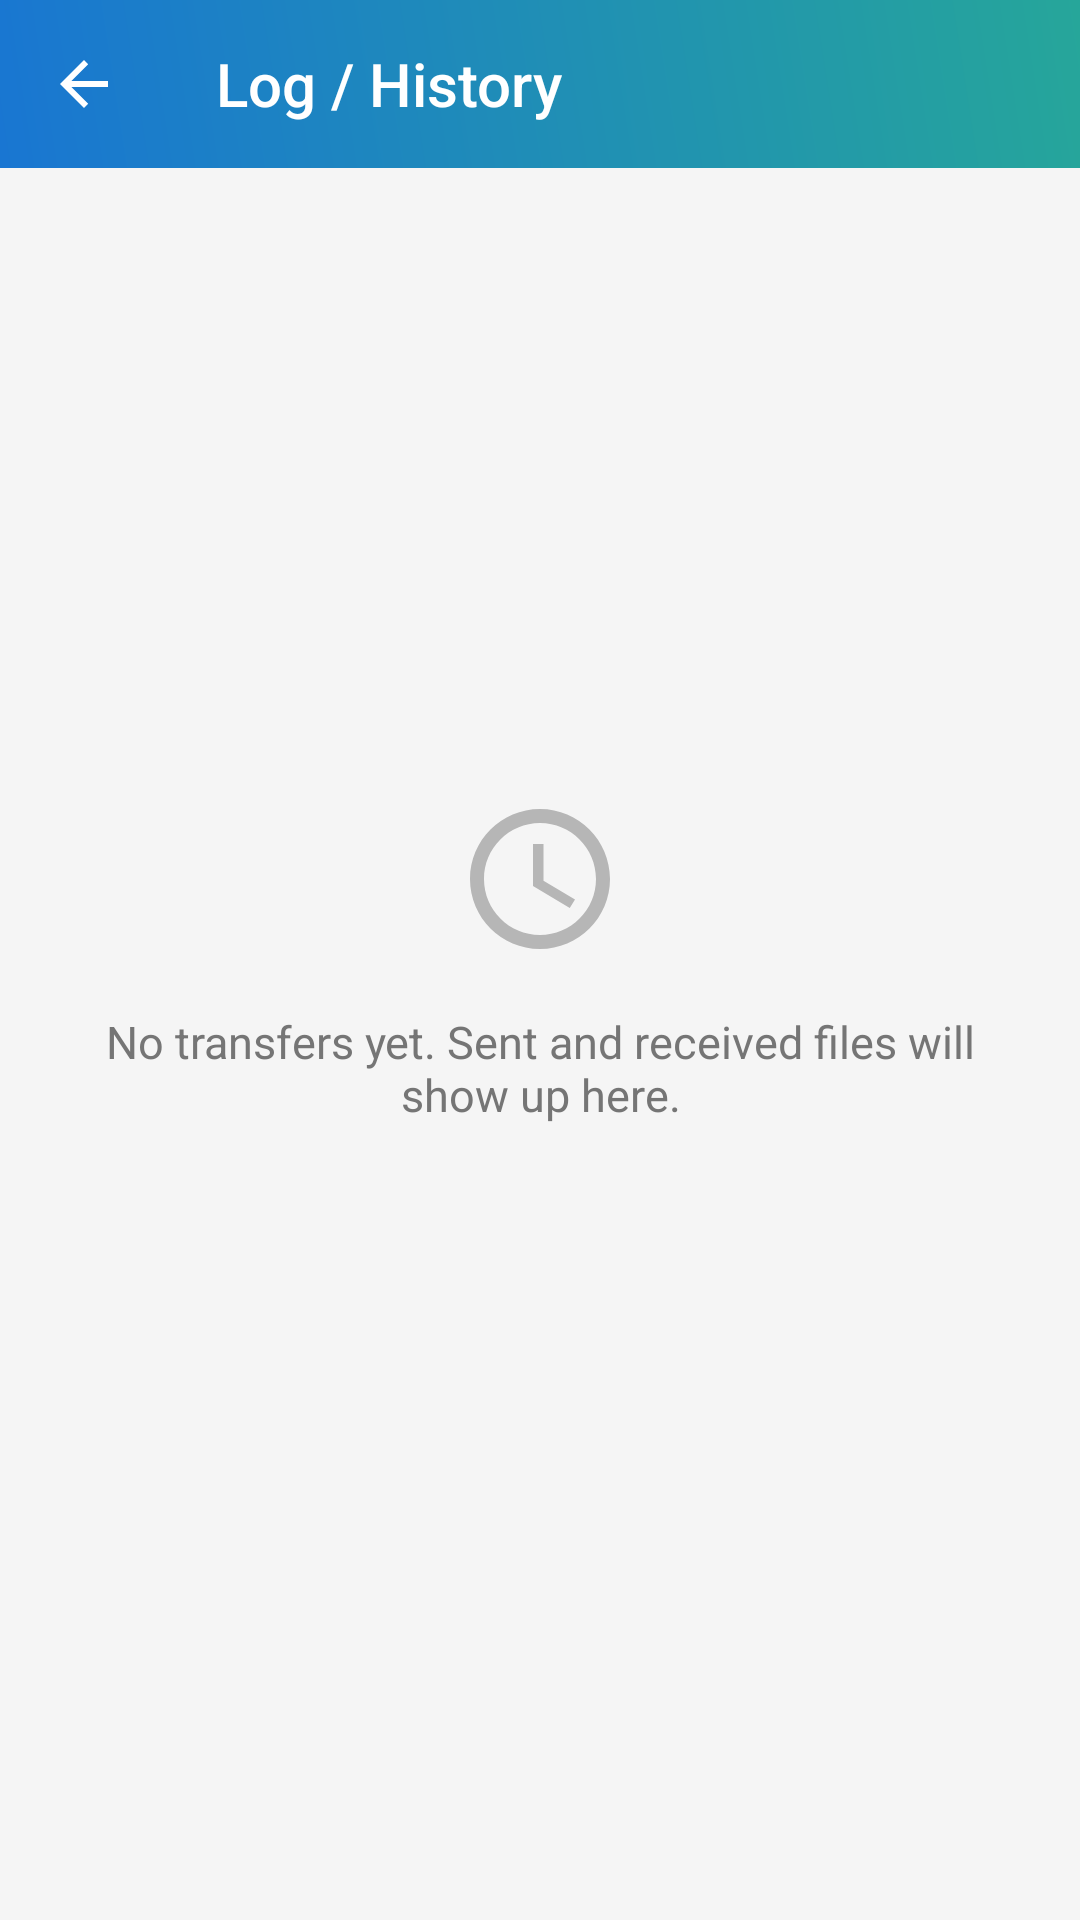

Icon bounding boxes for this 1080 × 1920 phone screenshot, format detection(x1, y1, x2, y2):
history: detection(470, 809, 610, 949)
